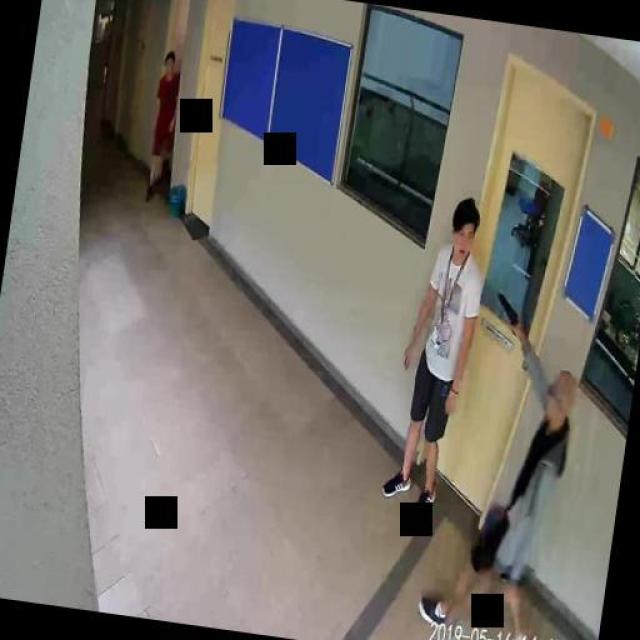gun: (492, 292, 524, 334)
